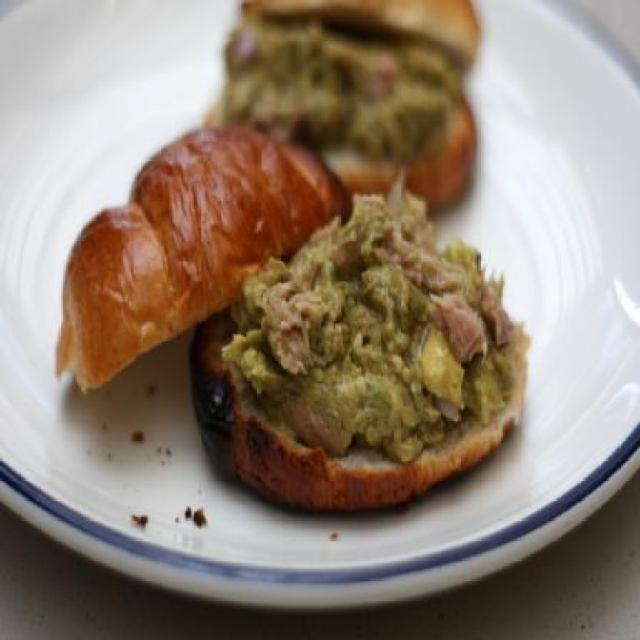Croissant: (50, 127, 350, 393)
